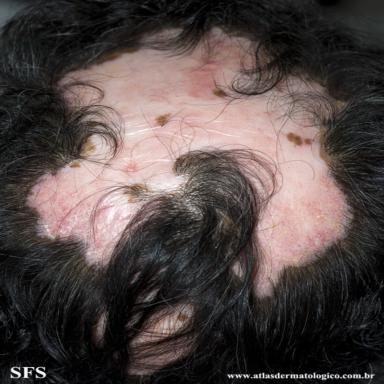Lupus-Erythematosus-Chronicus-Discoides: (27, 27, 349, 296)
